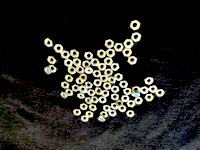nut: (130, 19, 141, 30), (127, 55, 138, 65), (131, 32, 142, 42), (105, 38, 115, 49), (44, 37, 54, 48), (124, 38, 134, 49), (114, 42, 124, 52), (97, 49, 107, 59), (84, 51, 94, 60), (106, 49, 116, 58), (55, 43, 64, 53), (145, 77, 154, 86), (120, 80, 129, 89), (111, 63, 120, 72), (93, 79, 102, 88), (64, 59, 73, 68), (48, 56, 57, 65), (123, 48, 132, 57), (140, 86, 149, 95), (111, 85, 120, 94), (48, 64, 57, 73), (104, 57, 113, 66), (98, 62, 107, 71), (91, 58, 100, 67), (115, 99, 124, 108), (76, 65, 85, 74), (61, 50, 70, 59), (145, 94, 155, 102), (70, 50, 80, 58), (104, 69, 114, 77), (123, 88, 133, 96), (156, 89, 165, 97), (101, 90, 110, 98), (108, 110, 117, 118), (93, 70, 102, 78), (65, 75, 74, 83), (72, 84, 80, 93), (79, 74, 88, 82), (149, 85, 158, 93), (121, 95, 130, 103), (44, 66, 52, 75), (115, 73, 124, 81), (73, 58, 81, 67), (103, 82, 112, 90), (65, 89, 74, 97), (73, 109, 81, 117), (91, 96, 99, 104), (127, 110, 135, 118), (135, 97, 143, 105), (83, 60, 91, 68), (119, 105, 127, 113), (81, 115, 89, 123), (89, 104, 97, 112), (80, 103, 88, 111), (108, 76, 116, 84), (85, 81, 93, 89), (111, 94, 120, 101), (99, 97, 107, 104), (128, 101, 136, 108), (111, 103, 119, 110), (103, 105, 111, 112), (85, 97, 92, 105), (88, 90, 96, 97), (95, 88, 103, 95), (61, 91, 68, 99), (61, 82, 69, 89), (80, 86, 87, 94), (76, 78, 84, 85), (85, 68, 94, 74), (132, 86, 141, 92), (101, 75, 108, 82), (86, 112, 94, 118), (98, 116, 106, 122), (100, 112, 108, 118), (77, 93, 85, 99), (132, 92, 141, 97)
